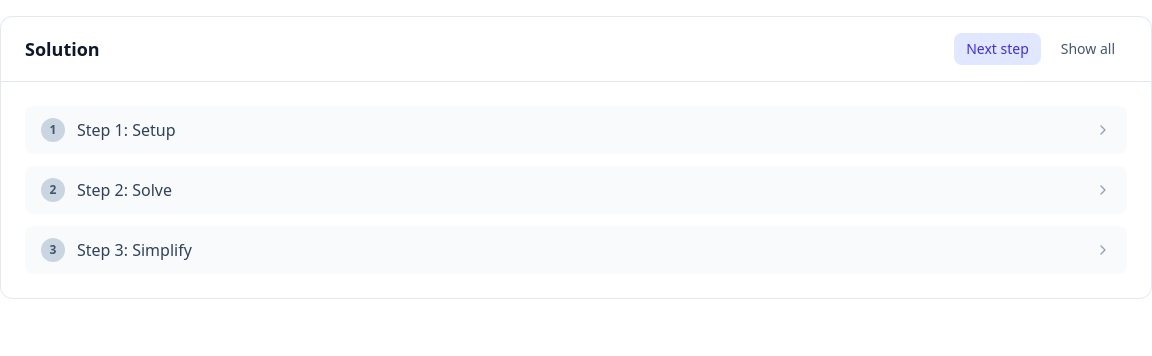
Test case: StepByStep › clicking a step title toggles its visibility
# Click the first step title to open it
Click the text "Step 1: Setup".
click(126, 130)  # box [77,119,176,141]
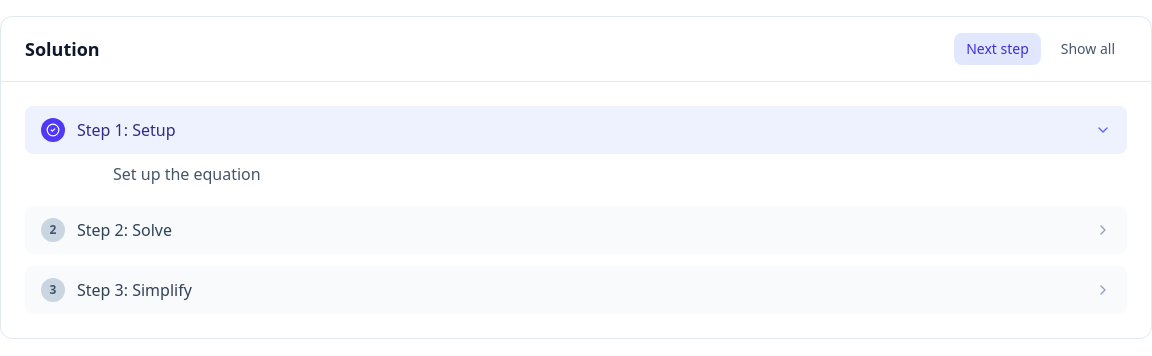
Expected: the text "Set up the equation" is shown, [113,163,261,185]
# Click again to close it
Click the button "Step 1: Setup".
click(126, 130)  # box [25,106,1127,154]
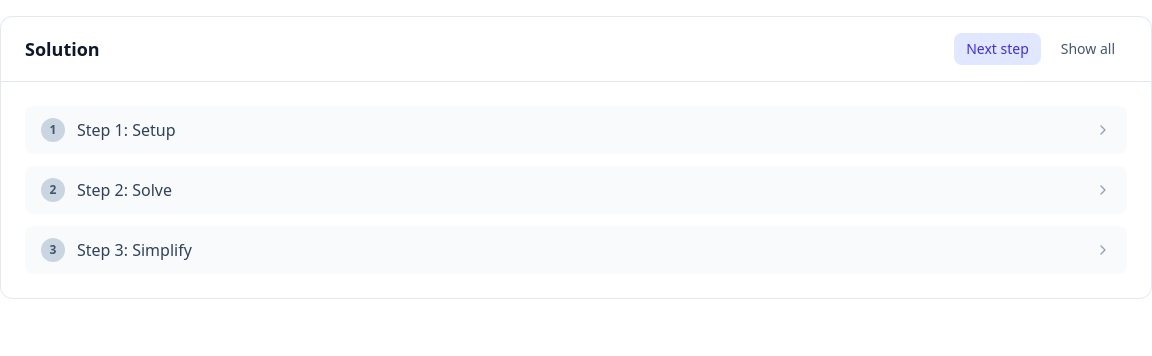
Expected: the text "Set up the equation" is gone
